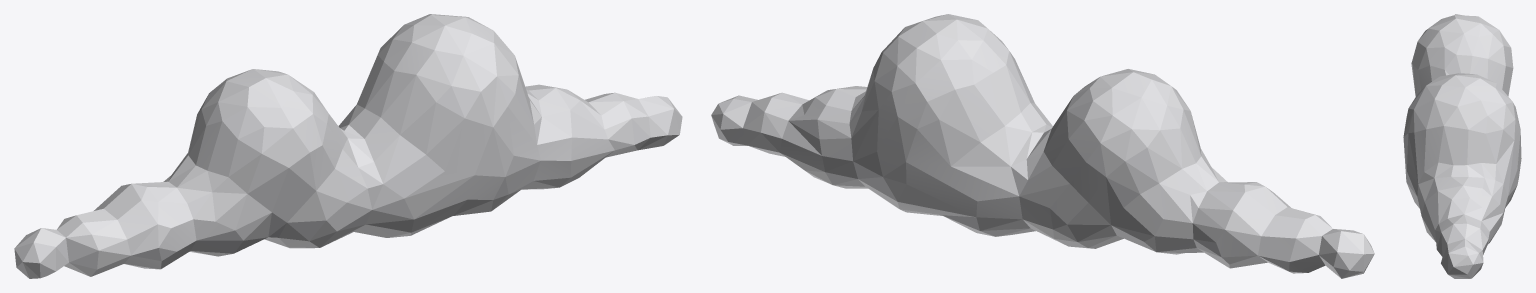
Rendered from big_cloud_6.fbx.
3 renders of one model, left to right at view 1: azimuth 30°, elevation 25°; view 2: azimuth 150°, elevation 25°; view 3: azimuth 270°, elevation 25°, orthographic. The views are drawn at different scales.
Parts seen in each view (by area): view 1: cloud_46; view 2: cloud_46; view 3: cloud_46.
Part boxes in pixels (left/top/right/bottom): cloud_46: left=14, top=14, right=682, bottom=278; cloud_46: left=711, top=14, right=1374, bottom=278; cloud_46: left=1403, top=14, right=1521, bottom=278.
Bounding box in the file's own units: 1671 × 479 × 356.
